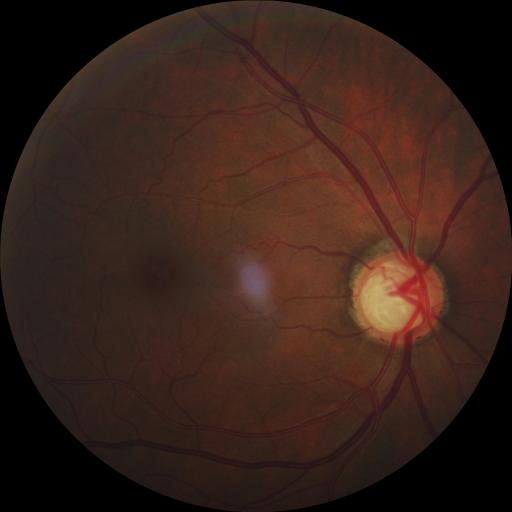Optic Cup: (361, 262, 422, 332)
Optic Disc: (351, 251, 443, 345)
